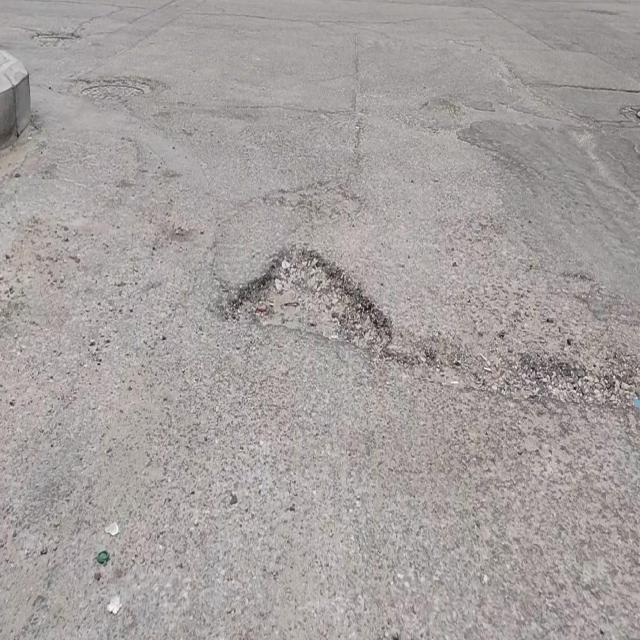Potholes: (228, 243, 393, 358)
